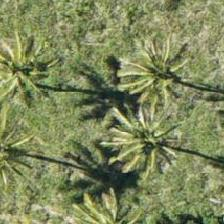coconut_tree: (109, 33, 199, 123), (93, 108, 183, 198), (0, 25, 75, 115)
